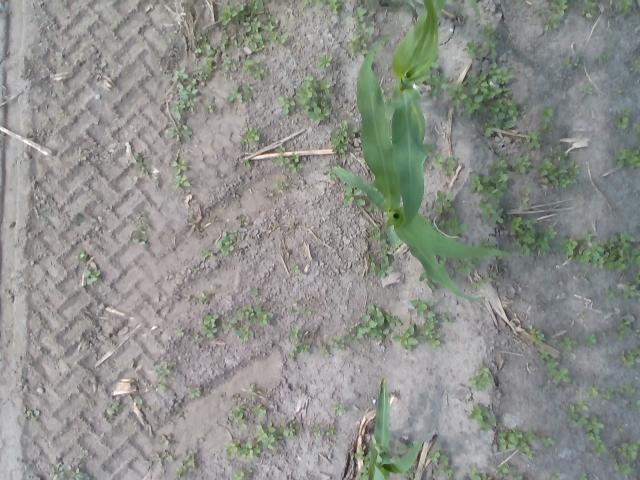Maize: (332, 41, 508, 302), (390, 0, 446, 229), (369, 380, 424, 480), (468, 0, 481, 21), (406, 0, 416, 9)
Weeds: (450, 61, 519, 138), (220, 0, 288, 55), (578, 231, 640, 273), (470, 170, 509, 226), (508, 216, 558, 258), (170, 66, 208, 120), (222, 305, 274, 341), (356, 304, 402, 341), (296, 76, 330, 125), (434, 190, 466, 234), (536, 156, 580, 188), (496, 429, 537, 460), (610, 440, 640, 475), (48, 455, 90, 480), (330, 121, 360, 155), (222, 437, 261, 462), (196, 35, 217, 78), (272, 146, 304, 172), (466, 403, 496, 430), (542, 0, 566, 32), (348, 23, 372, 54), (418, 316, 441, 348), (255, 420, 278, 450), (468, 364, 494, 390), (214, 230, 240, 255), (392, 326, 418, 351), (174, 449, 196, 478), (300, 0, 342, 15), (368, 255, 394, 278), (614, 147, 640, 170), (492, 462, 524, 480), (144, 451, 172, 471), (426, 72, 448, 96), (128, 210, 150, 233), (344, 186, 366, 207), (200, 314, 220, 337), (617, 316, 635, 341), (586, 433, 606, 454), (151, 363, 172, 383), (410, 298, 432, 316), (511, 155, 531, 174), (549, 368, 571, 385), (621, 348, 640, 367), (134, 154, 154, 172), (418, 271, 435, 292), (440, 156, 457, 176), (166, 129, 192, 142), (229, 406, 247, 424), (526, 132, 544, 150), (585, 418, 605, 434), (240, 127, 260, 143), (618, 282, 638, 298), (560, 237, 576, 257), (468, 277, 492, 290), (454, 257, 472, 274), (279, 96, 296, 114), (616, 109, 630, 130), (226, 85, 242, 102), (464, 42, 483, 56), (85, 269, 101, 285), (530, 328, 546, 344), (324, 162, 338, 180), (490, 158, 510, 170), (582, 0, 598, 15), (172, 159, 188, 174), (279, 423, 296, 437), (378, 238, 392, 255), (618, 384, 636, 397), (172, 175, 190, 188), (432, 468, 451, 480), (352, 6, 367, 21), (561, 336, 577, 350), (427, 444, 439, 462), (618, 0, 632, 15), (318, 54, 331, 70), (296, 341, 313, 353), (331, 336, 345, 350), (254, 66, 268, 80), (331, 403, 346, 416), (23, 408, 39, 420), (368, 227, 380, 243), (470, 463, 481, 480), (543, 434, 556, 448), (478, 26, 496, 36), (585, 385, 601, 396), (76, 250, 89, 263), (106, 402, 120, 414), (244, 60, 256, 74), (272, 180, 288, 190), (254, 406, 269, 416), (233, 468, 245, 480), (538, 348, 550, 360), (424, 144, 436, 156), (568, 406, 578, 420), (575, 402, 589, 412), (586, 333, 596, 347), (578, 414, 589, 426), (196, 228, 207, 240), (344, 328, 355, 340), (542, 121, 553, 133), (484, 40, 500, 48), (291, 326, 302, 337), (160, 436, 172, 446), (326, 427, 338, 437), (236, 218, 248, 228), (432, 156, 442, 168), (312, 426, 325, 435), (190, 388, 201, 398), (242, 82, 253, 92), (231, 392, 243, 401), (546, 359, 558, 368), (516, 201, 528, 210), (440, 454, 450, 464), (605, 288, 614, 299), (174, 329, 187, 336), (484, 240, 499, 246), (582, 230, 592, 239), (556, 153, 566, 162), (563, 59, 573, 68), (544, 107, 554, 116), (145, 4, 154, 14), (224, 60, 232, 71), (132, 238, 146, 244), (301, 308, 313, 315), (633, 60, 640, 72), (604, 390, 614, 398), (134, 396, 142, 406), (158, 384, 168, 392), (246, 384, 256, 392), (177, 122, 187, 130), (633, 123, 640, 134), (442, 314, 451, 322), (549, 147, 557, 156), (209, 104, 218, 112), (201, 252, 215, 257), (250, 289, 260, 296), (287, 351, 294, 361), (633, 272, 640, 282), (188, 215, 194, 226), (125, 176, 138, 181), (439, 256, 447, 264), (614, 426, 624, 432), (292, 265, 300, 272), (521, 188, 529, 195), (244, 93, 252, 100), (634, 400, 640, 409), (201, 298, 210, 304), (274, 222, 281, 229), (208, 95, 216, 101), (580, 474, 587, 480), (242, 423, 248, 430), (483, 475, 491, 480), (616, 89, 624, 94), (599, 54, 607, 59), (244, 160, 250, 166), (584, 88, 592, 92), (288, 222, 293, 228), (185, 296, 191, 301), (602, 331, 606, 338), (551, 475, 556, 480), (292, 299, 299, 302), (102, 151, 109, 154), (202, 292, 206, 296)
